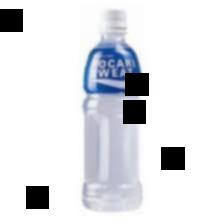pocarisweat: (74, 9, 143, 210)
